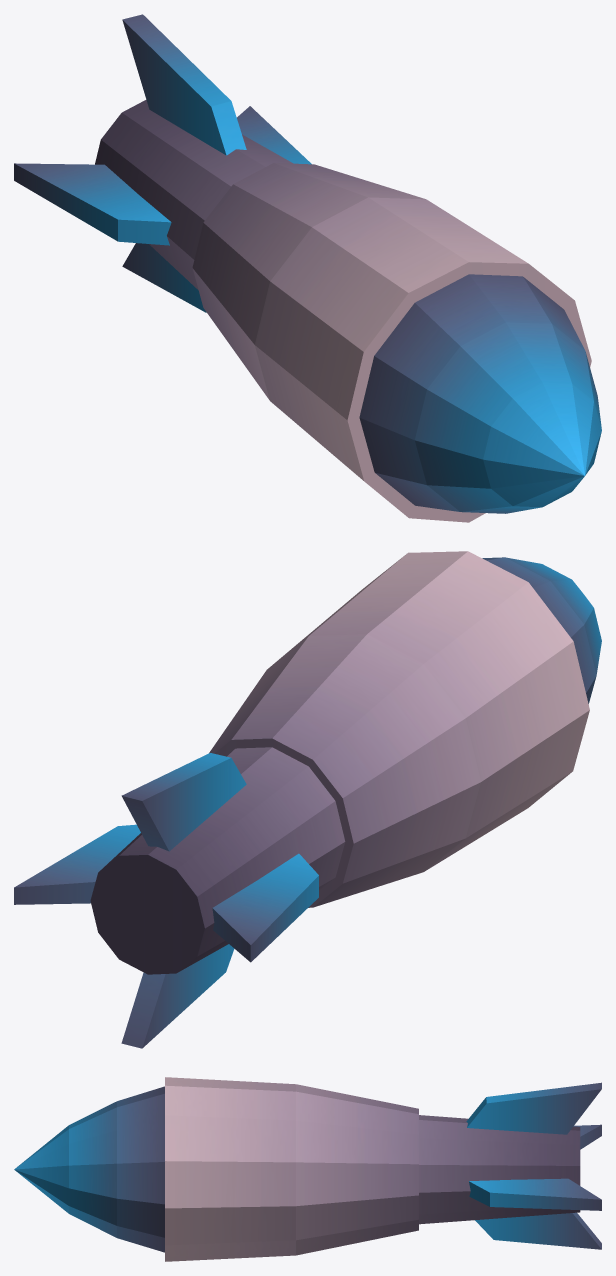
The model's file is Tank_Shell_Blue.fbx.
3 views of the same model, one above another, from view 1: azimuth 30°, elevation 25°; view 2: azimuth 150°, elevation 25°; view 3: azimuth 270°, elevation 25° (orthographic). The views are drawn at different scales.
Visible parts, largest first — view 1: Tank Shell Pointy.001; view 2: Tank Shell Pointy.001; view 3: Tank Shell Pointy.001.
Boxes of the visible parts, x1,y1,x2,y2 form: Tank Shell Pointy.001: [14, 14, 601, 522]; Tank Shell Pointy.001: [14, 551, 601, 1048]; Tank Shell Pointy.001: [14, 1077, 601, 1261].
Size of the model in its own units: 25.18 by 25.66 by 80.69.
